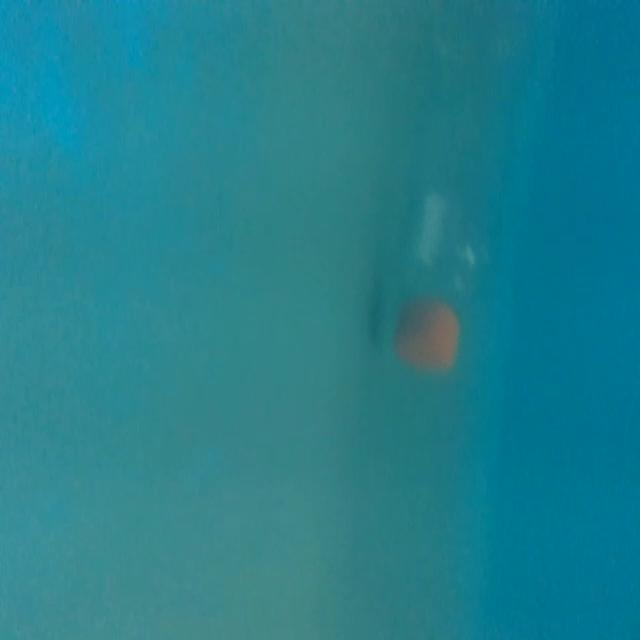plastic bottle: (390, 17, 511, 378)
